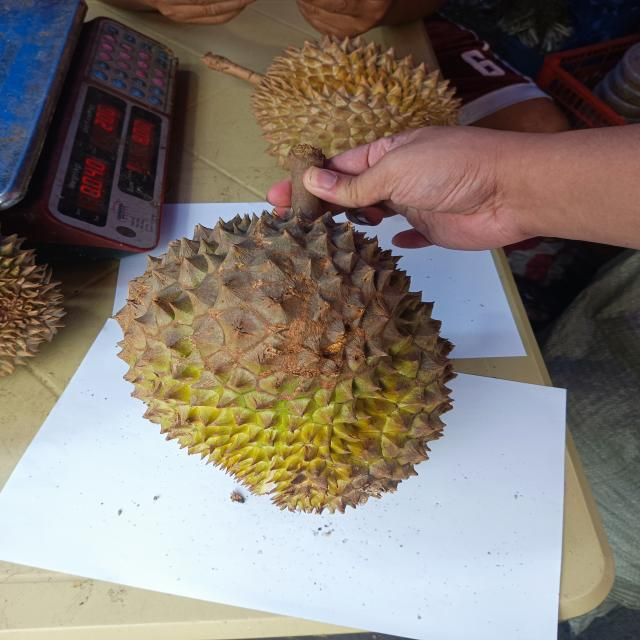mature: (114, 202, 456, 512), (246, 33, 468, 164)
